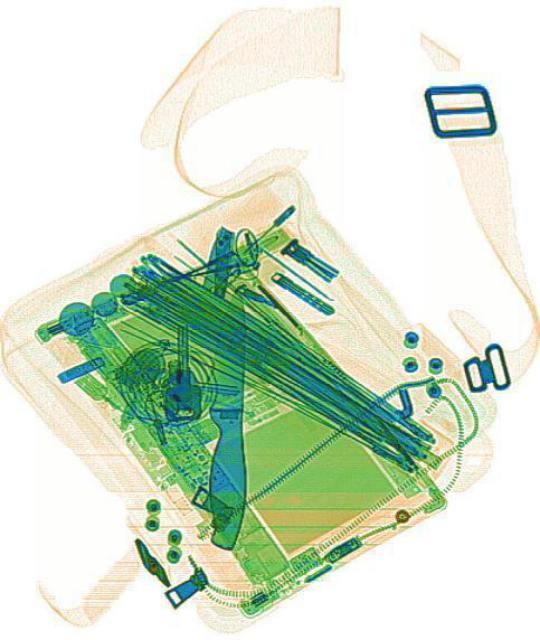Knife: (201, 290, 254, 548)
